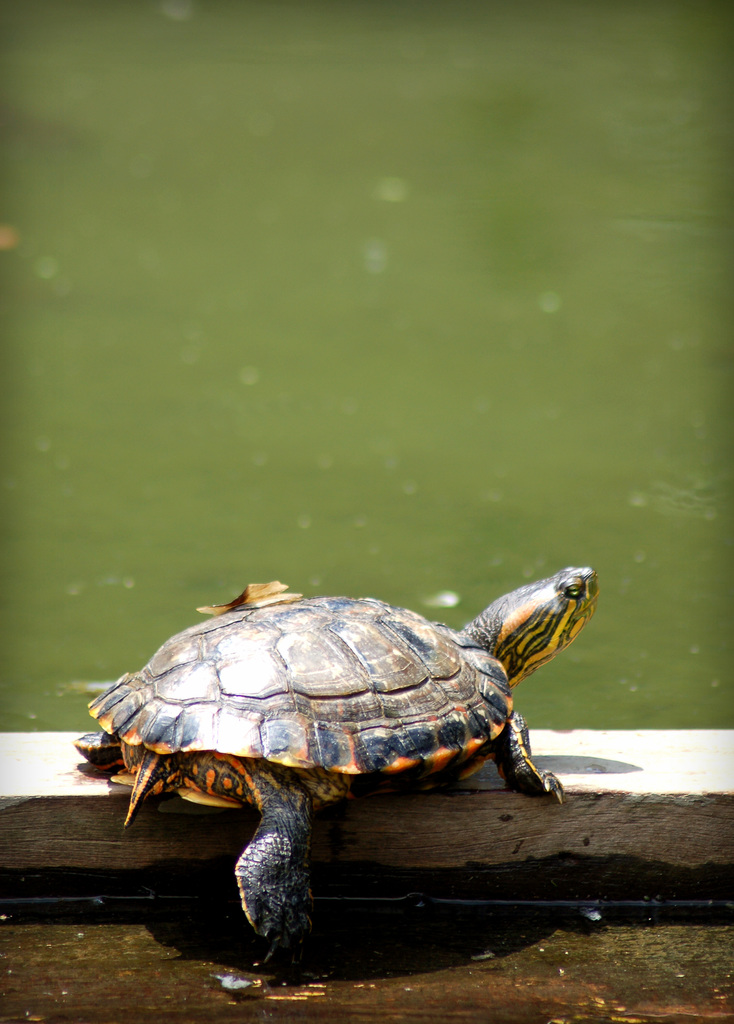Sea turtles: (70, 558, 605, 973)
